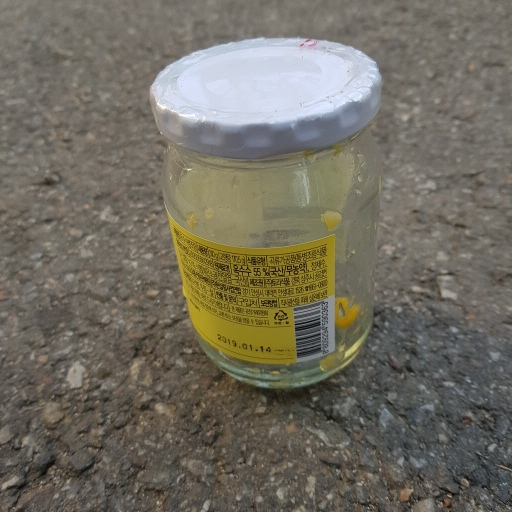Glass_5: (146, 37, 394, 391)
